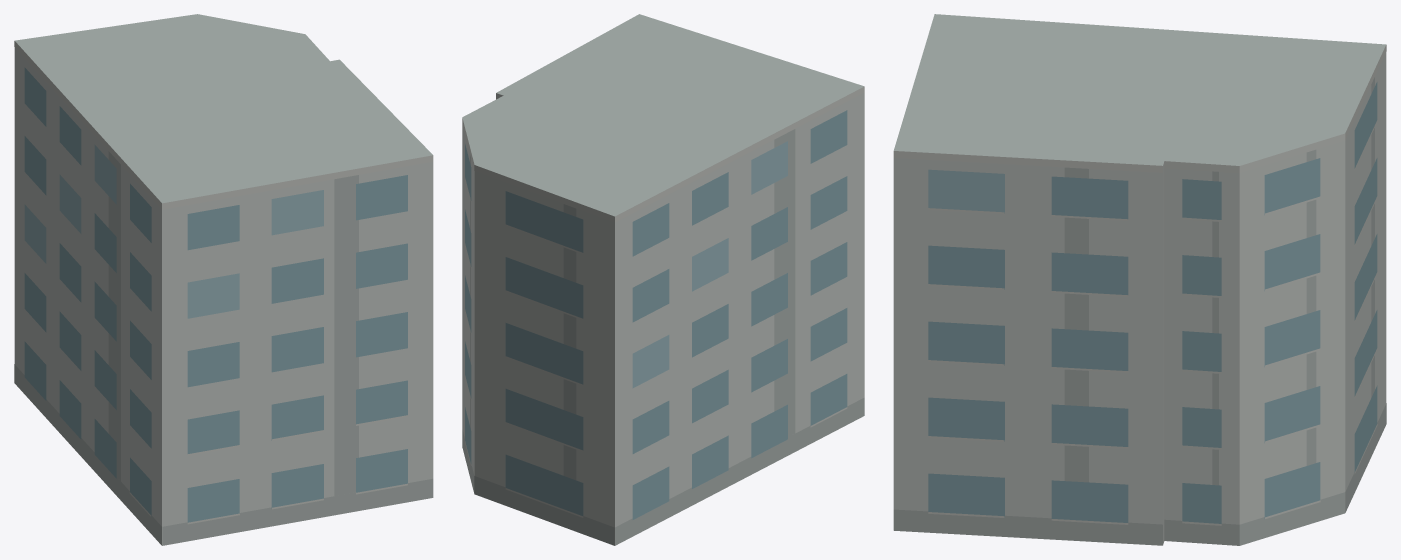
File: survey-upis-32987149.glb
3 renders of one model, left to right at view 1: azimuth 30°, elevation 25°; view 2: azimuth 150°, elevation 25°; view 3: azimuth 270°, elevation 25°, orthographic. The views are drawn at different scales.
Parts seen in each view (by area): view 1: survey-upis-32987149.tmp; view 2: survey-upis-32987149.tmp; view 3: survey-upis-32987149.tmp.
Part boxes in pixels (x1,y1,x2,y2): survey-upis-32987149.tmp: [14, 14, 433, 545]; survey-upis-32987149.tmp: [462, 14, 864, 545]; survey-upis-32987149.tmp: [893, 14, 1386, 545].
Bounding box in the file's own units: 11.08 × 12.9 × 15.18.
